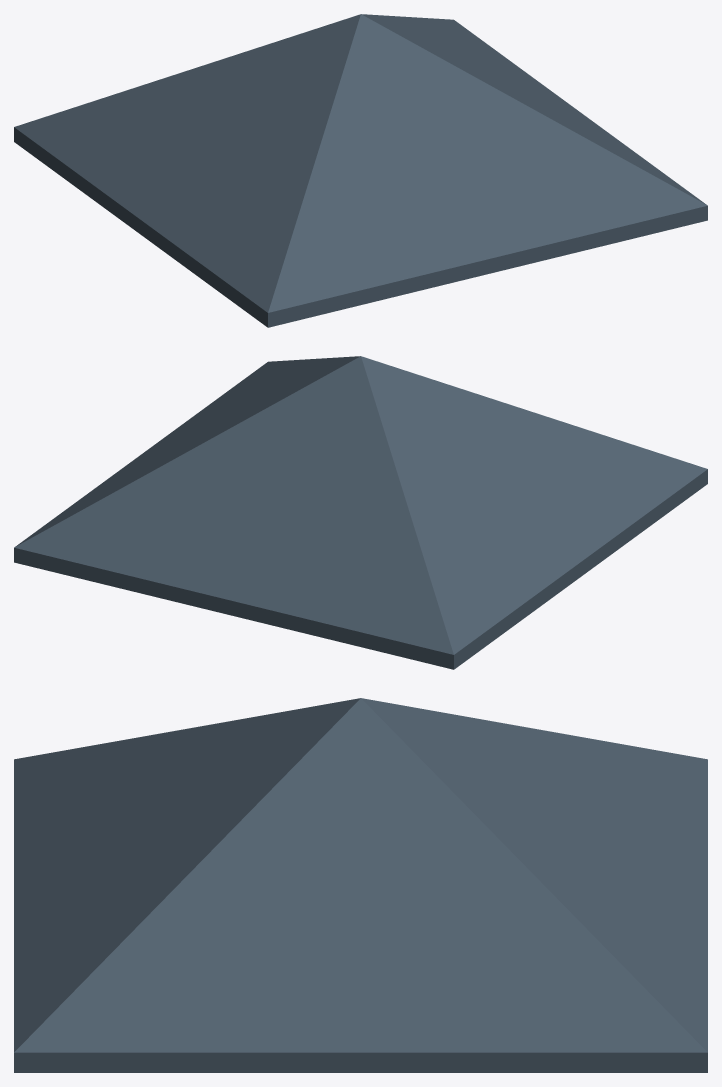
The model's file is roof-hip.glb.
3 views of the same model, one above another, from view 1: azimuth 30°, elevation 25°; view 2: azimuth 150°, elevation 25°; view 3: azimuth 270°, elevation 25° (orthographic). The views are drawn at different scales.
Visible parts, largest first — view 1: roof-hip; view 2: roof-hip; view 3: roof-hip.
Boxes of the visible parts, x1=… form: roof-hip: x1=14, y1=14, x2=707, y2=327; roof-hip: x1=14, y1=356, x2=707, y2=669; roof-hip: x1=14, y1=698, x2=707, y2=1072.
Bounding box in the file's own units: 1.24 × 0.45 × 1.24.
